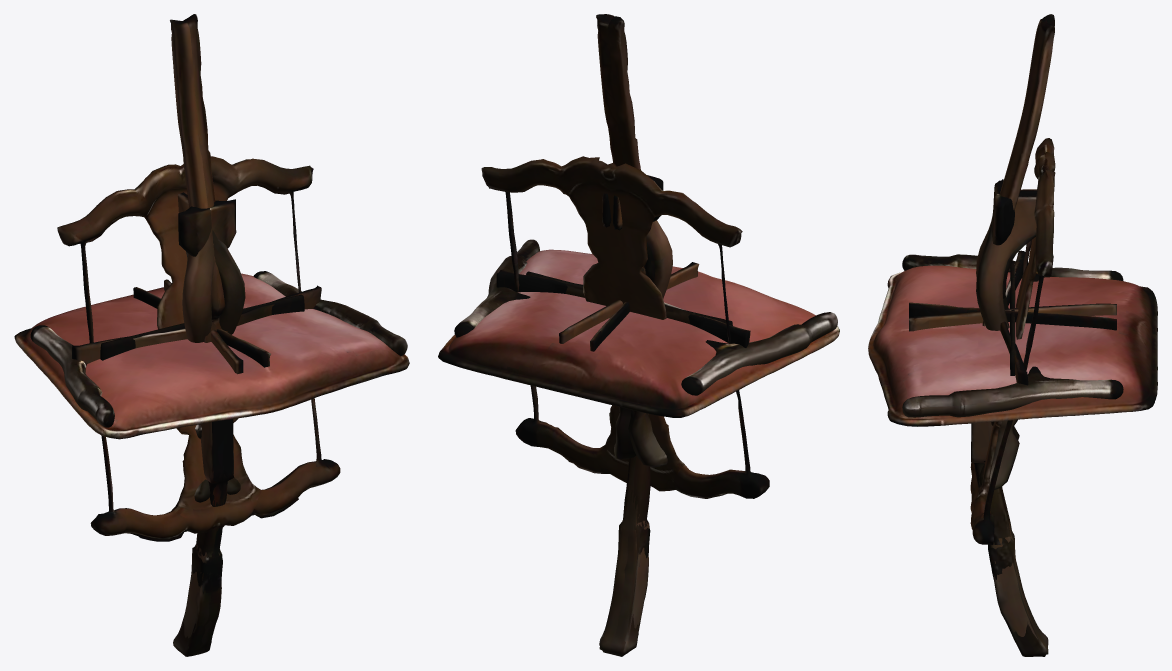
3 views of the same model, side by side, from view 1: azimuth 30°, elevation 25°; view 2: azimuth 150°, elevation 25°; view 3: azimuth 270°, elevation 25° (orthographic).
Parts seen in each view (by area): view 1: root.0, root.1, root.3, root.2, root.4, root.5, root.6, root.7, root.8, root.9, root.10; view 2: root.0, root.1, root.4, root.3, root.2, root.5, root.7, root.10, root.6, root.8, root.9; view 3: root.0, root.4, root.1, root.2, root.6, root.3, root.9, root.10, root.5, root.7, root.8.
Part boxes in pixels (box(x1,y1,x2,y2)): root.0: box(14, 273, 409, 439); root.1: box(57, 156, 340, 541); root.3: box(170, 19, 233, 655); root.2: box(173, 14, 234, 656); root.4: box(30, 271, 407, 427); root.5: box(177, 192, 236, 502); root.6: box(178, 206, 245, 494); root.7: box(72, 285, 321, 363); root.8: box(100, 294, 304, 360); root.9: box(133, 287, 270, 367); root.10: box(164, 279, 243, 374); root.0: box(438, 249, 839, 417); root.1: box(481, 156, 769, 498); root.4: box(454, 239, 837, 395); root.3: box(599, 16, 649, 655); root.2: box(596, 14, 650, 656); root.5: box(613, 195, 672, 467); root.7: box(496, 270, 750, 347); root.10: box(559, 262, 699, 343); root.6: box(602, 175, 663, 459); root.8: box(526, 271, 732, 325); root.9: box(590, 302, 629, 351); root.0: box(868, 265, 1157, 426); root.4: box(902, 254, 1123, 417); root.1: box(970, 138, 1055, 544); root.2: box(971, 22, 1054, 654); root.6: box(976, 179, 1036, 489); root.3: box(971, 14, 1054, 656); root.9: box(909, 303, 1116, 331); root.10: box(909, 302, 1116, 330); root.5: box(976, 189, 1037, 439); root.7: box(1000, 250, 1028, 385); root.8: box(1010, 261, 1015, 375).
Size of the model in its own units: 16504 by 32055 by 13307.
Materials: 1 (1 with a texture image).
